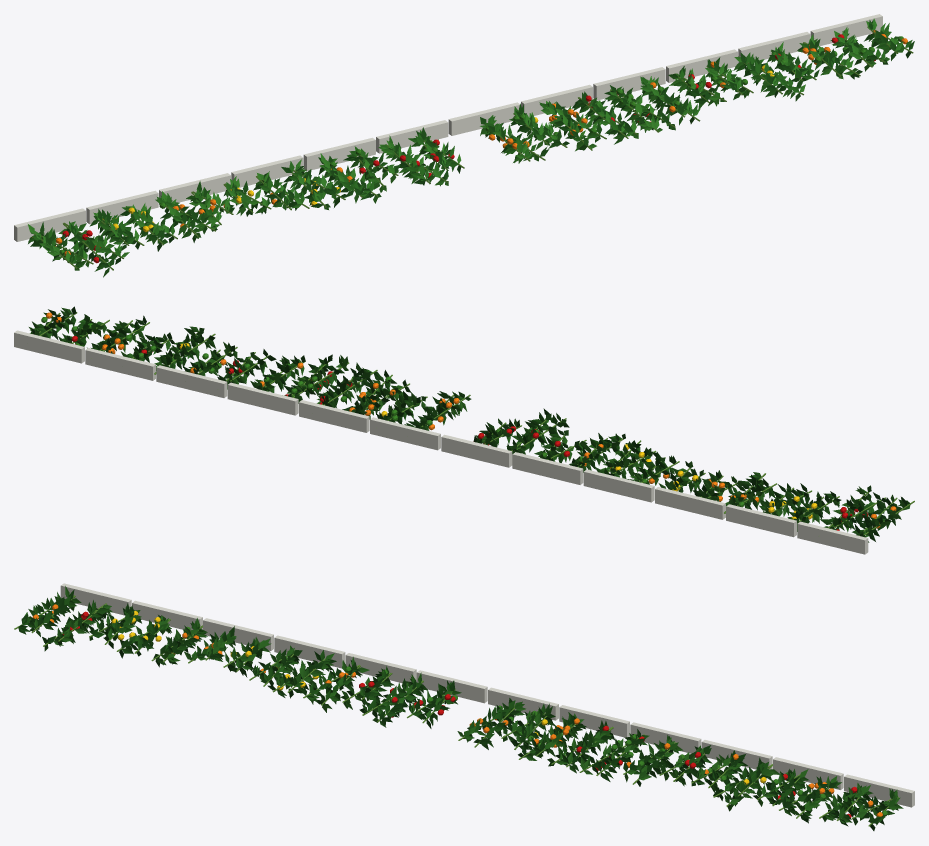
The model's file is row11.obj.
3 views of the same model, one above another, from view 1: azimuth 30°, elevation 25°; view 2: azimuth 150°, elevation 25°; view 3: azimuth 330°, elevation 25° (orthographic).
Parts seen in each view (by area): view 1: row11; view 2: row11; view 3: row11.
Part boxes in pixels (<box>): row11: <box>14,14,914,277</box>; row11: <box>14,306,914,554</box>; row11: <box>14,583,914,830</box>.
Size of the model in its own units: 12.5 by 0.4283 by 1.5.
